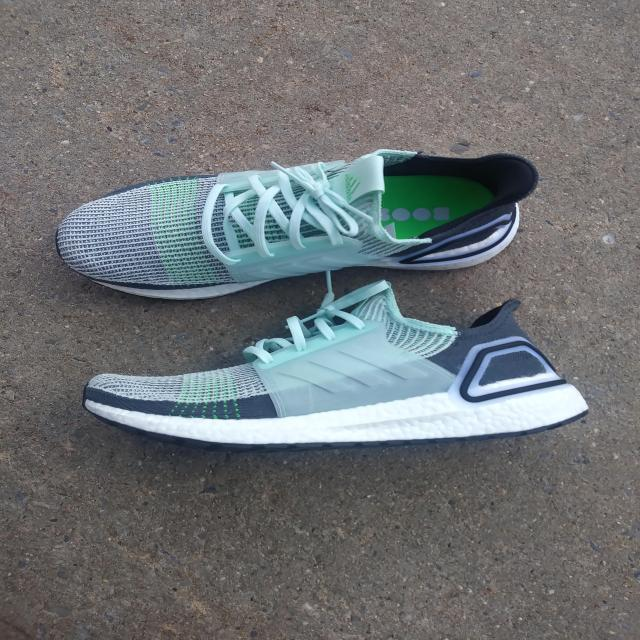shoes: (29, 299, 626, 462), (40, 152, 593, 283)
